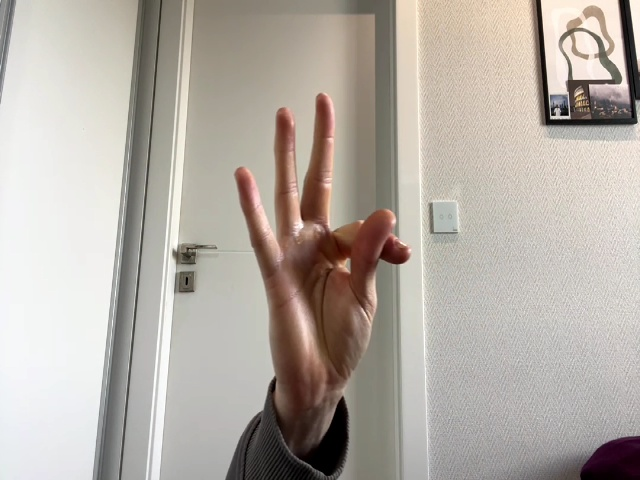T: (235, 92, 410, 394)
